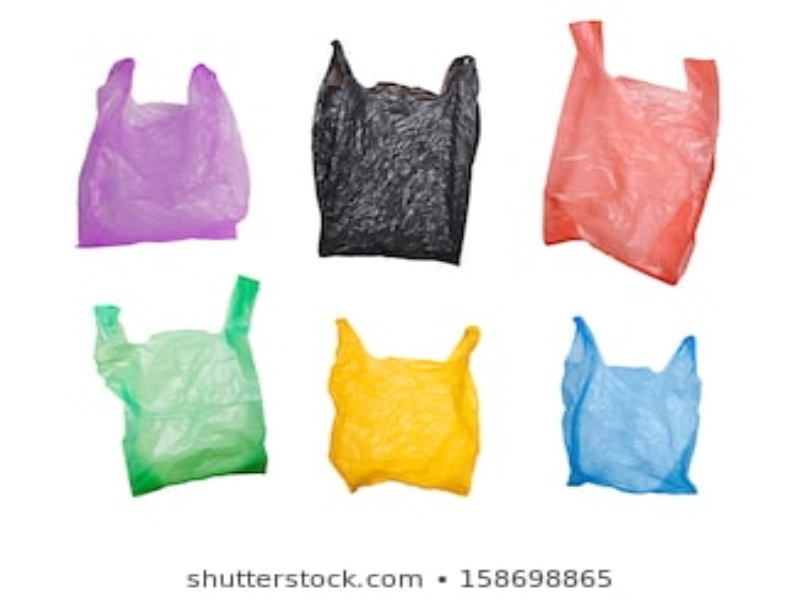plastic-bag: (538, 20, 721, 290), (90, 273, 271, 497), (309, 35, 481, 267), (74, 56, 251, 247), (326, 314, 481, 500), (558, 311, 707, 496)
